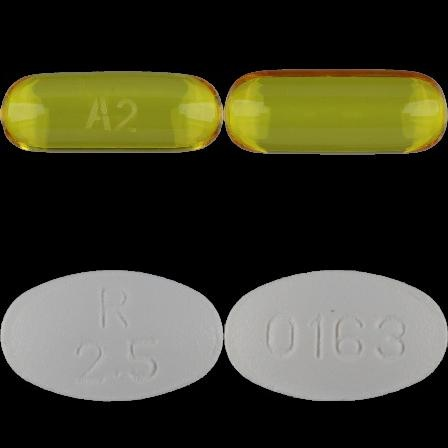0904-6254: (0, 0, 224, 224)
